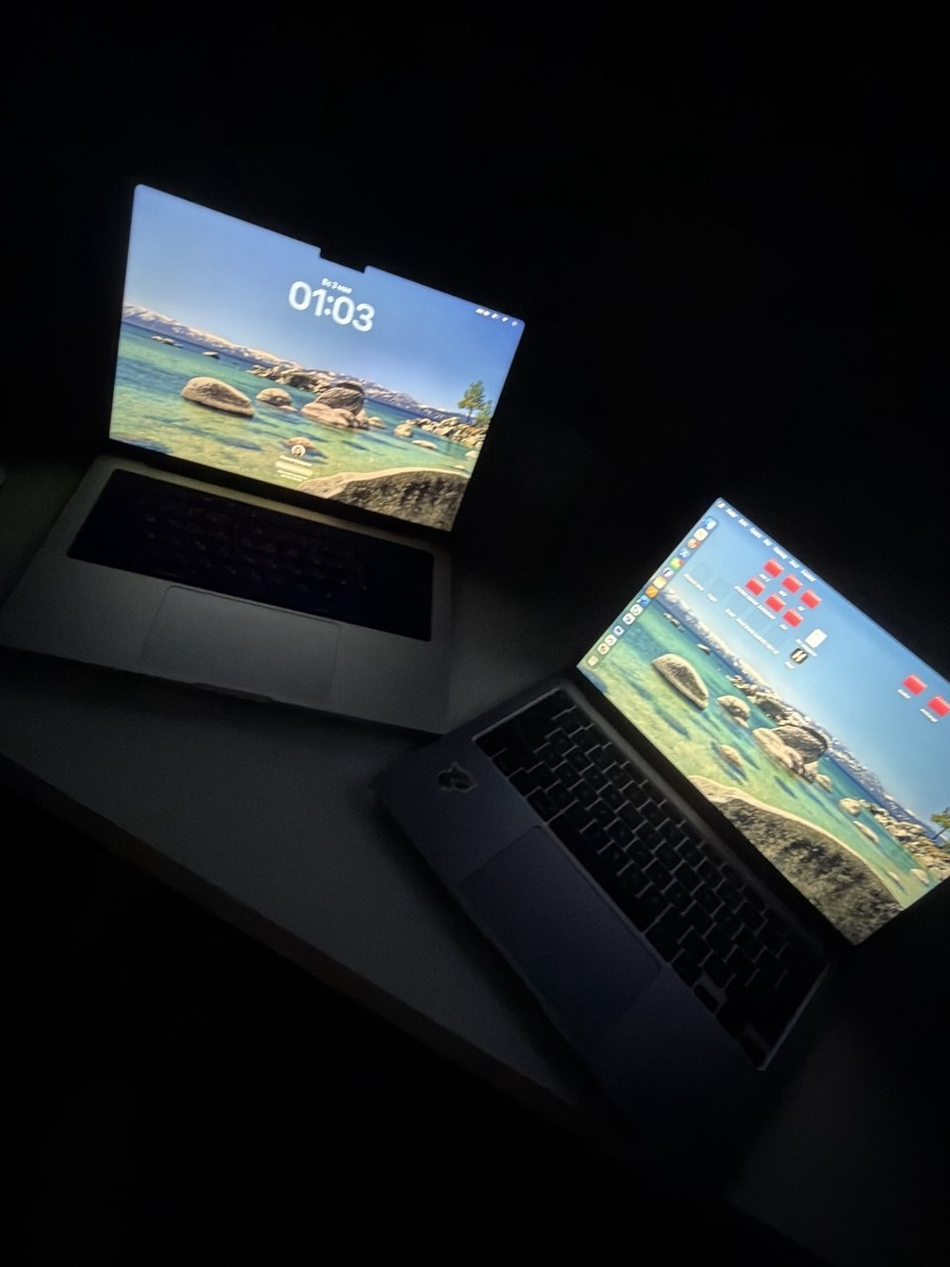laptop: (377, 494, 949, 1138), (1, 178, 527, 738)
